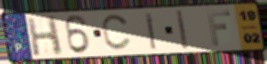6: (64, 14, 92, 55)
C: (100, 13, 133, 53)
F: (205, 9, 233, 48)
H: (25, 14, 65, 57)
I: (175, 9, 190, 51), (144, 11, 158, 51)
